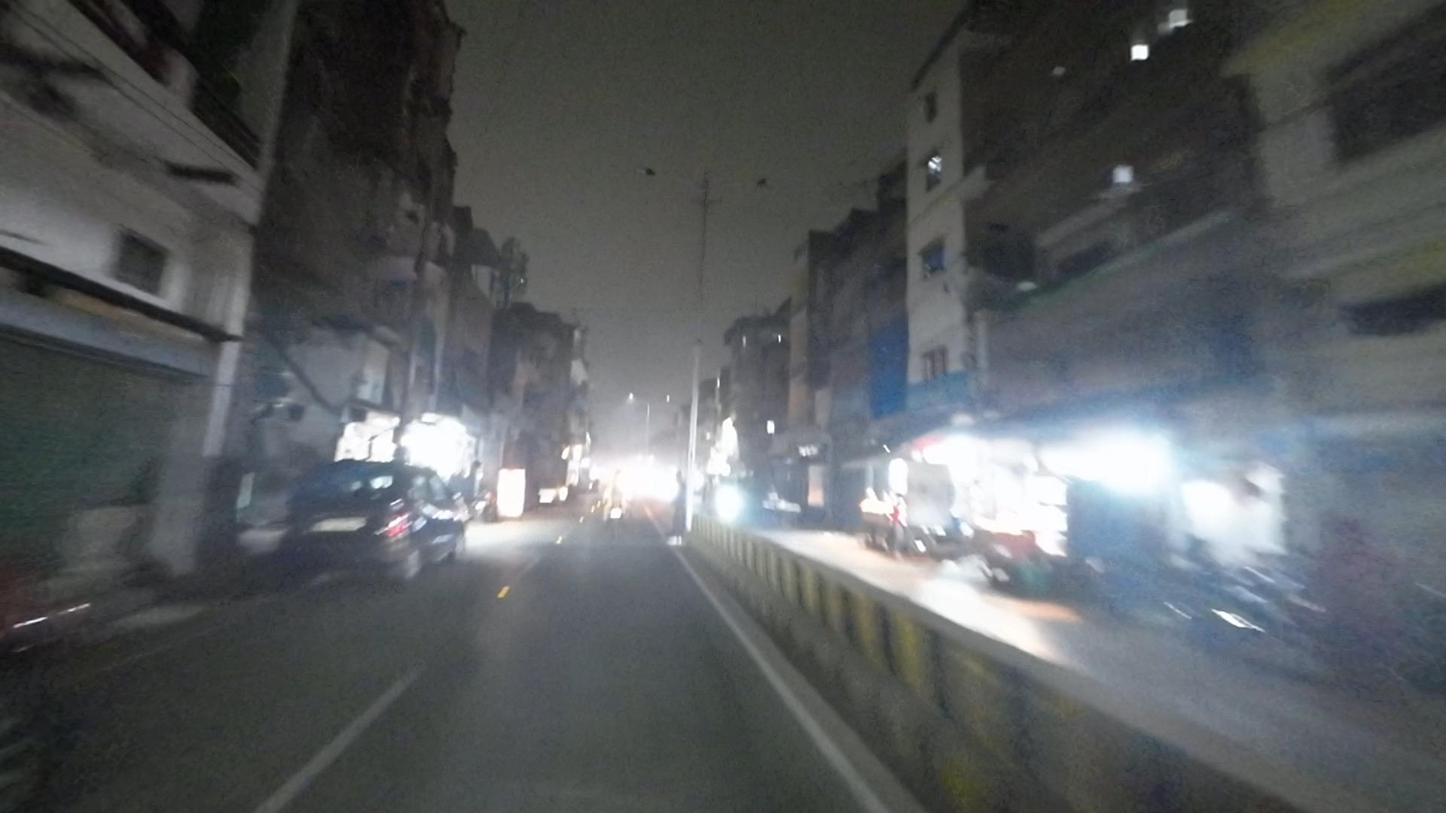streetlight: (633, 163, 691, 187), (723, 174, 770, 193)
